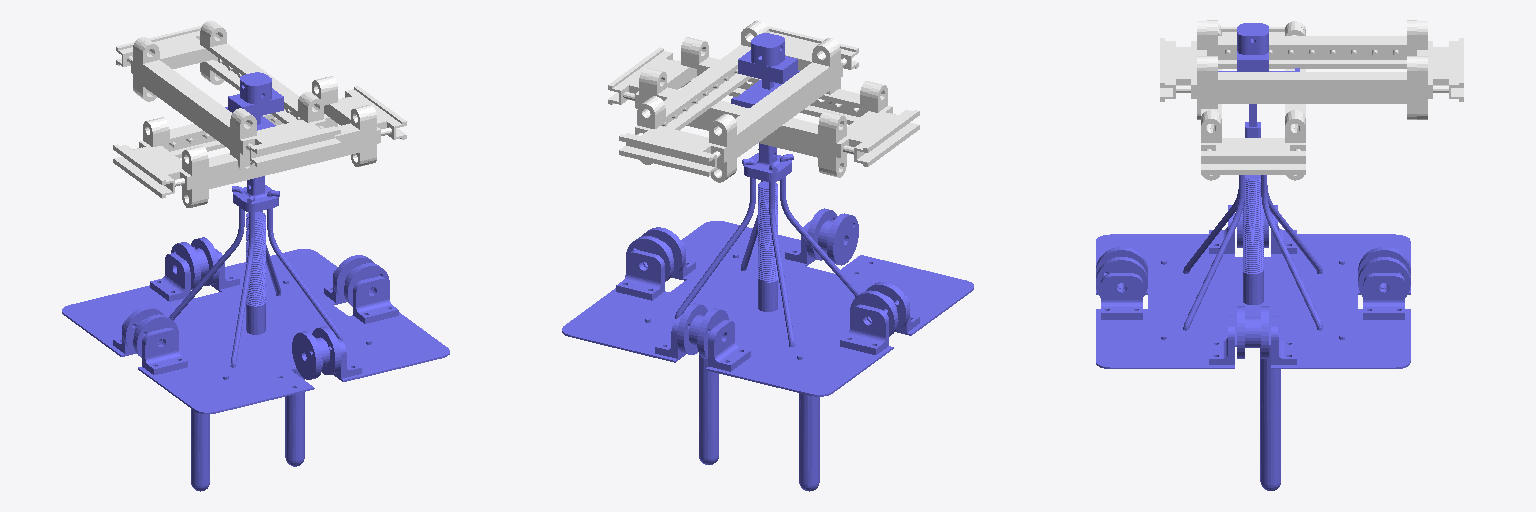
The robot description file, URDF, robot "pata_nhi":
<?xml version="1.0" encoding="utf-8"?>
<!-- This URDF was automatically created by SolidWorks to URDF Exporter! Originally created by [author] ([email redacted]) 
     Commit Version: 1.5.1-0-g916b5db  Build Version: 1.5.7152.31018
     For more information, please see http://wiki.ros.org/sw_urdf_exporter -->
<robot
  name="pata_nhi">
  <link
    name="daughter_drone">
    <inertial>
      <origin
        xyz="0.322273331716569 -1.06306429853643 0.703610457423331"
        rpy="0 0 0" />
      <mass
        value="9.17274716357279" />
      <inertia
        ixx="0.113168183907872"
        ixy="2.879340902747E-05"
        ixz="3.55812202013983E-07"
        iyy="0.106632530815954"
        iyz="3.55959495991135E-07"
        izz="0.216588374946071" />
    </inertial>
    <visual>
      <origin
        xyz="0 0 0"
        rpy="0 0 0" />
      <geometry>
        <mesh
          filename="package://pata_nhi/meshes/daughter_drone.STL" />
      </geometry>
      <material
        name="">
        <color
          rgba="0.752941176470588 0.752941176470588 0.752941176470588 1" />
      </material>
    </visual>
    <collision>
      <origin
        xyz="0 0 0"
        rpy="0 0 0" />
      <geometry>
        <mesh
          filename="package://pata_nhi/meshes/daughter_drone.STL" />
      </geometry>
    </collision>
  </link>
  <link
    name="x_mechanism">
    <inertial>
      <origin
        xyz="0 -1.11022302462516E-16 0.0299999999999999"
        rpy="0 0 0" />
      <mass
        value="0.361821889354435" />
      <inertia
        ixx="0.000181977592876624"
        ixy="-1.59184665590959E-20"
        ixz="2.25909373767043E-21"
        iyy="0.00114039214204202"
        iyz="-7.40988393934503E-20"
        izz="0.00105499825884494" />
    </inertial>
    <visual>
      <origin
        xyz="0 0 0"
        rpy="0 0 0" />
      <geometry>
        <mesh
          filename="package://pata_nhi/meshes/x_mechanism.STL" />
      </geometry>
      <material
        name="">
        <color
          rgba="1 1 1 1" />
      </material>
    </visual>
    <collision>
      <origin
        xyz="0 0 0"
        rpy="0 0 0" />
      <geometry>
        <mesh
          filename="package://pata_nhi/meshes/x_mechanism.STL" />
      </geometry>
    </collision>
  </link>
  <joint
    name="x_mechanism_joint"
    type="prismatic">
    <origin
      xyz="0.28849 -1.0645 0.77331"
      rpy="-1.5708 0 -1.5708" />
    <parent
      link="daughter_drone" />
    <child
      link="x_mechanism" />
    <axis
      xyz="0 0 0" />
    <limit
      lower="-0.05"
      upper="0.05"
      effort="2"
      velocity="0.01" />
  </joint>
  <link
    name="y_mechanism">
    <inertial>
      <origin
        xyz="1.11022302462516E-16 0 -0.03"
        rpy="0 0 0" />
      <mass
        value="0.361821889354436" />
      <inertia
        ixx="0.000181977592876624"
        ixy="1.53500808184568E-19"
        ixz="-6.20408485609846E-21"
        iyy="0.00114039214204202"
        iyz="7.13462850366187E-22"
        izz="0.00105499825884495" />
    </inertial>
    <visual>
      <origin
        xyz="0 0 0"
        rpy="0 0 0" />
      <geometry>
        <mesh
          filename="package://pata_nhi/meshes/y_mechanism.STL" />
      </geometry>
      <material
        name="">
        <color
          rgba="1 1 1 1" />
      </material>
    </visual>
    <collision>
      <origin
        xyz="0 0 0"
        rpy="0 0 0" />
      <geometry>
        <mesh
          filename="package://pata_nhi/meshes/y_mechanism.STL" />
      </geometry>
    </collision>
  </link>
  <joint
    name="y_mechanism_joint"
    type="prismatic">
    <origin
      xyz="0.026068 0.03 0.034829"
      rpy="0 -1.5708 0" />
    <parent
      link="x_mechanism" />
    <child
      link="y_mechanism" />
    <axis
      xyz="0 0 0" />
    <limit
      lower="-0.05"
      upper="0.05"
      effort="2"
      velocity="0.01" />
  </joint>
  <link
    name="z_mechanism">
    <inertial>
      <origin
        xyz="0.00771870263319374 0.17431108570966 -0.00144914915511857"
        rpy="0 0 0" />
      <mass
        value="1.92381564495859" />
      <inertia
        ixx="0.00282122758517376"
        ixy="3.50848036648591E-09"
        ixz="-5.88725255393279E-09"
        iyy="0.00469695924074433"
        iyz="4.33546996231085E-06"
        izz="0.00281090252061711" />
    </inertial>
    <visual>
      <origin
        xyz="0 0 0"
        rpy="0 0 0" />
      <geometry>
        <mesh
          filename="package://pata_nhi/meshes/z_mechanism.STL" />
      </geometry>
      <material
        name="">
        <color
          rgba="0.501960784313725 0.501960784313725 1 1" />
      </material>
    </visual>
    <collision>
      <origin
        xyz="0 0 0"
        rpy="0 0 0" />
      <geometry>
        <mesh
          filename="package://pata_nhi/meshes/z_mechanism.STL" />
      </geometry>
    </collision>
  </link>
  <joint
    name="z_mechanism_joint"
    type="prismatic">
    <origin
      xyz="-0.0048285 -0.0075 -0.03"
      rpy="0 -1.5708 0" />
    <parent
      link="y_mechanism" />
    <child
      link="z_mechanism" />
    <axis
      xyz="0 0 0" />
    <limit
      lower="-0.05"
      upper="0.05"
      effort="2"
      velocity="0.01" />
  </joint>
  <link
    name="end_effector">
    <inertial>
      <origin
        xyz="0.178615161378153 -0.165941174454432 -0.0105075998025083"
        rpy="0 0 0" />
      <mass
        value="6.13770916735216" />
      <inertia
        ixx="0.0986670696410841"
        ixy="0.000741161589832155"
        ixz="4.68928223656675E-07"
        iyy="0.10164316316901"
        iyz="2.25010794882705E-06"
        izz="0.00971217362210569" />
    </inertial>
    <visual>
      <origin
        xyz="0 0 0"
        rpy="0 0 0" />
      <geometry>
        <mesh
          filename="package://pata_nhi/meshes/end_effector.STL" />
      </geometry>
      <material
        name="">
        <color
          rgba="0.776470588235294 0.756862745098039 0.737254901960784 1" />
      </material>
    </visual>
    <collision>
      <origin
        xyz="0 0 0"
        rpy="0 0 0" />
      <geometry>
        <mesh
          filename="package://pata_nhi/meshes/end_effector.STL" />
      </geometry>
    </collision>
  </link>
  <joint
    name="end_effector_joint"
    type="fixed">
    <origin
      xyz="0.32347 0.23575 0.0099627"
      rpy="0 0 3.1416" />
    <parent
      link="z_mechanism" />
    <child
      link="end_effector" />
    <axis
      xyz="0 0 0" />
  </joint>

  <gazebo reference="x_mechanism">
    <material>Gazebo/Green</material>
  </gazebo>

  <gazebo reference="y_mechanism">
    <material>Gazebo/Blue</material>
  </gazebo>

  <gazebo reference="z_mechanism">
    <material>Gazebo/Red</material>
  </gazebo>
</robot>

--- Render facts (derived) ---
Views: 3 orthographic renders of the robot side by side, from view 1: azimuth 30°, elevation 25°; view 2: azimuth 150°, elevation 25°; view 3: azimuth 270°, elevation 25°.
Robot: pata_nhi — 5 links, 4 joints (3 prismatic, 1 fixed); root link daughter_drone; default pose: all joints at 0.
Visible links, largest first — view 1: z_mechanism, x_mechanism, y_mechanism; view 2: z_mechanism, x_mechanism, y_mechanism; view 3: z_mechanism, x_mechanism, y_mechanism.
Boxes of the visible links, x1,y1,x2,y2 form: z_mechanism: (62,72,449,491); x_mechanism: (116,20,340,172); y_mechanism: (113,76,406,207); z_mechanism: (562,33,973,491); x_mechanism: (619,20,858,182); y_mechanism: (608,37,919,177); z_mechanism: (1096,23,1410,490); x_mechanism: (1160,20,1463,119); y_mechanism: (1201,21,1305,180).
Size in the robot's own frame: 0.3 by 0.3511 by 0.46 metres.
3 mesh visuals loaded from 5 distinct referenced files (3 binary STL); not drawn: 2 (reference not matched to a file when rendering).
